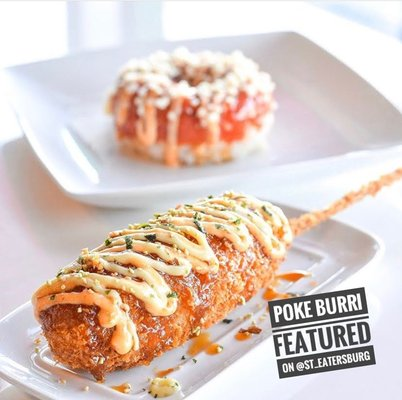soup: (27, 190, 294, 383)
